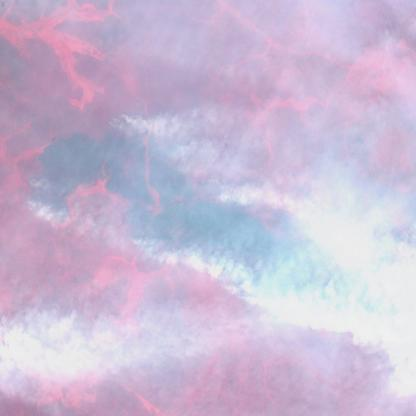fire: (0, 108, 416, 337)
